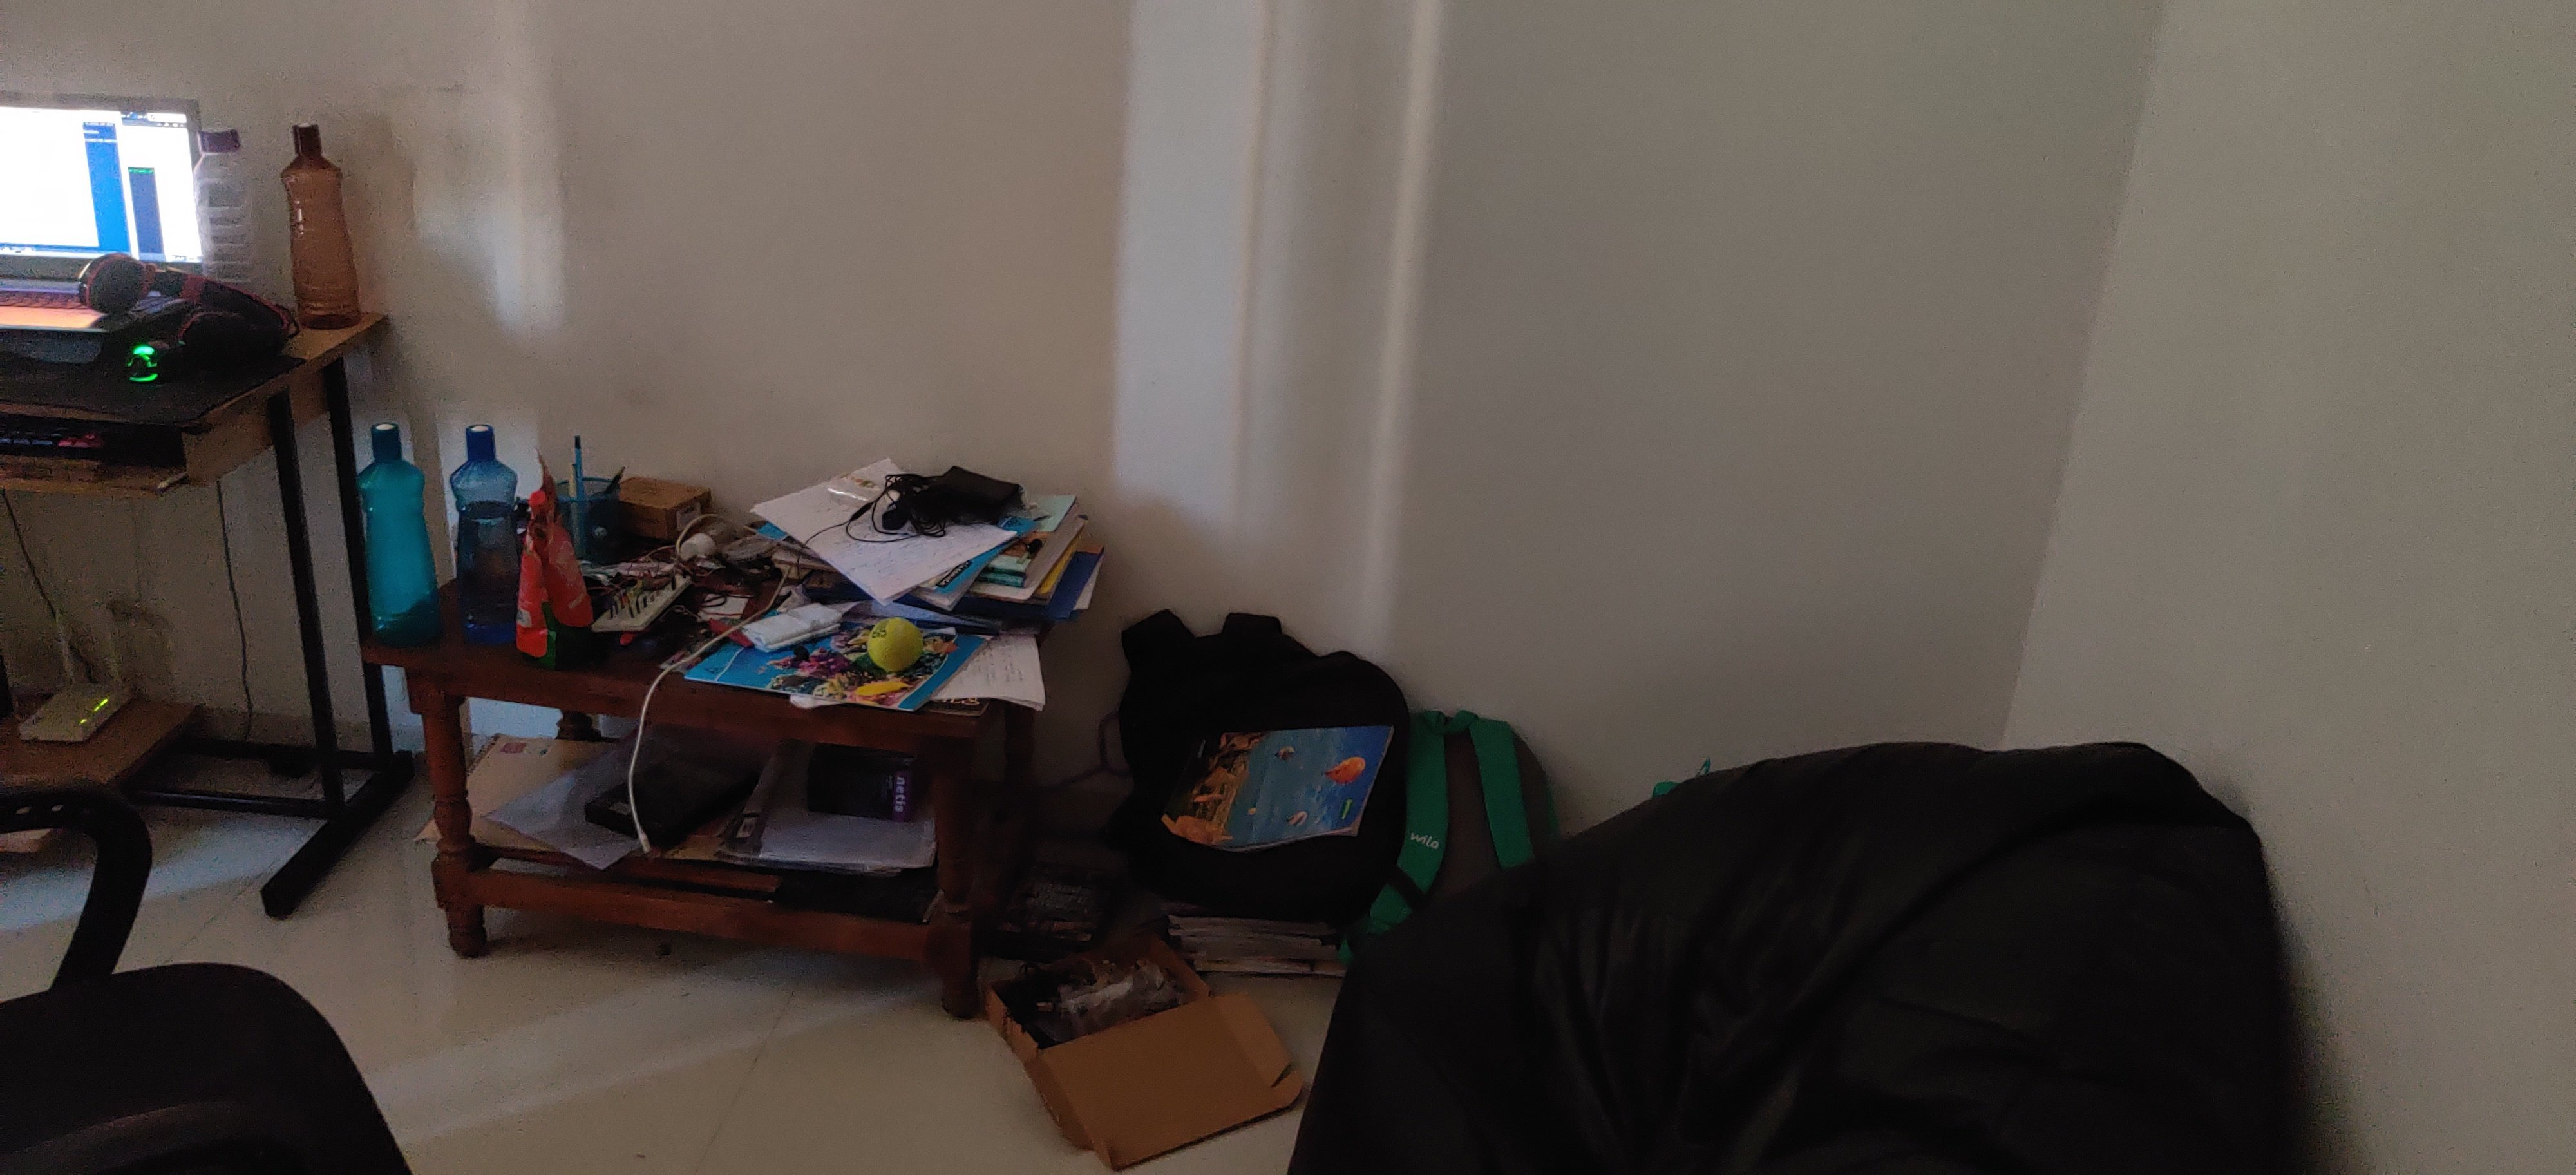Tennis-Ball: (867, 618, 923, 670)
